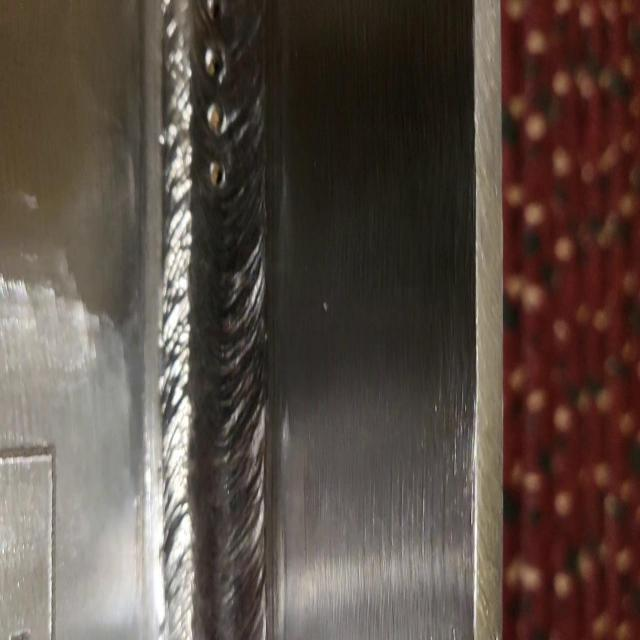Welding Line: (161, 2, 266, 640)
Workpiece: (2, 0, 501, 640)
porosity: (206, 1, 228, 187)
